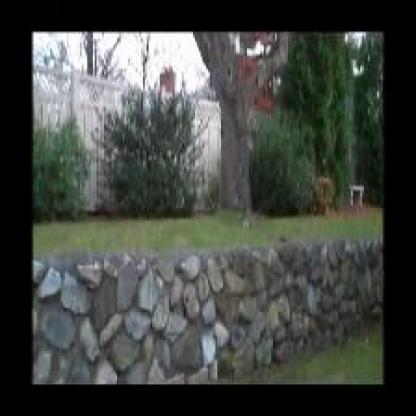other: (130, 48, 207, 94), (240, 52, 276, 112)
